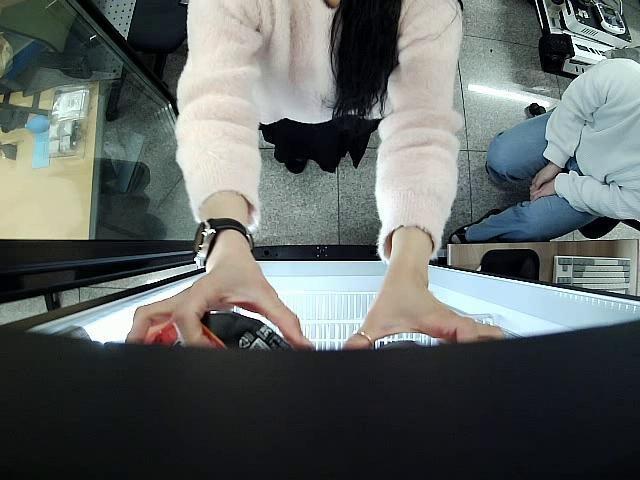01_ShinRamen_L: (145, 316, 298, 354)
